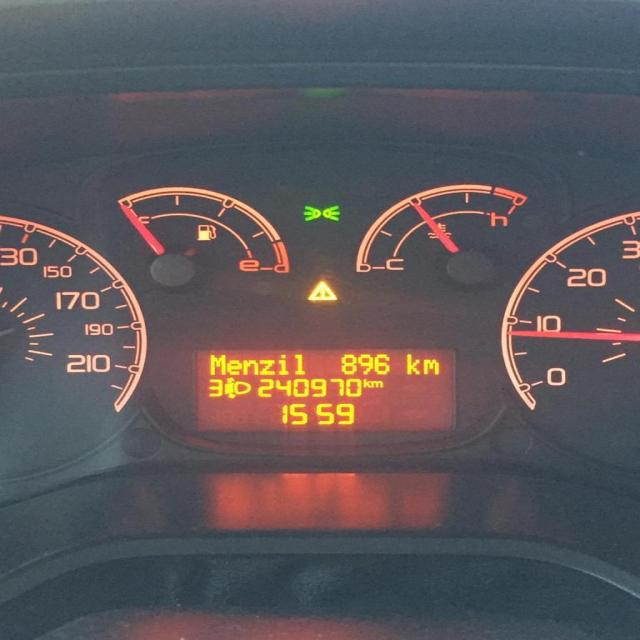odometer: (188, 343, 460, 437)
